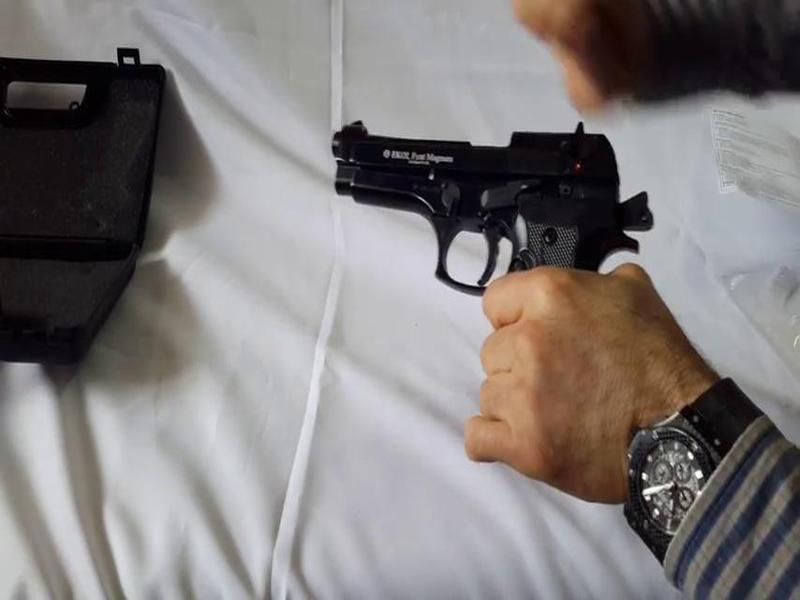Pistola: (287, 102, 643, 359)
